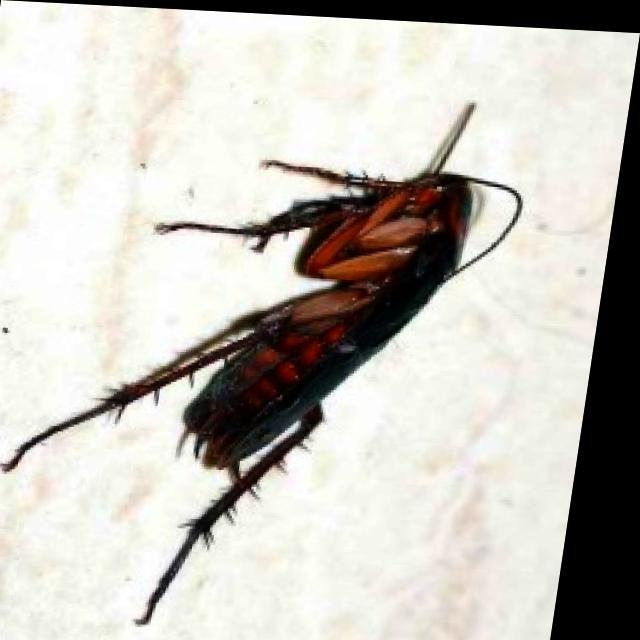cockroach: (2, 97, 526, 628)
